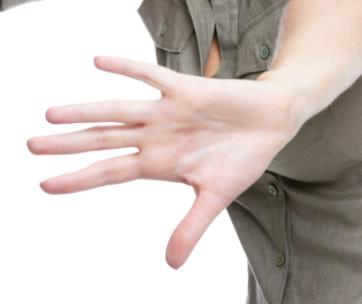down: (25, 55, 287, 273)
